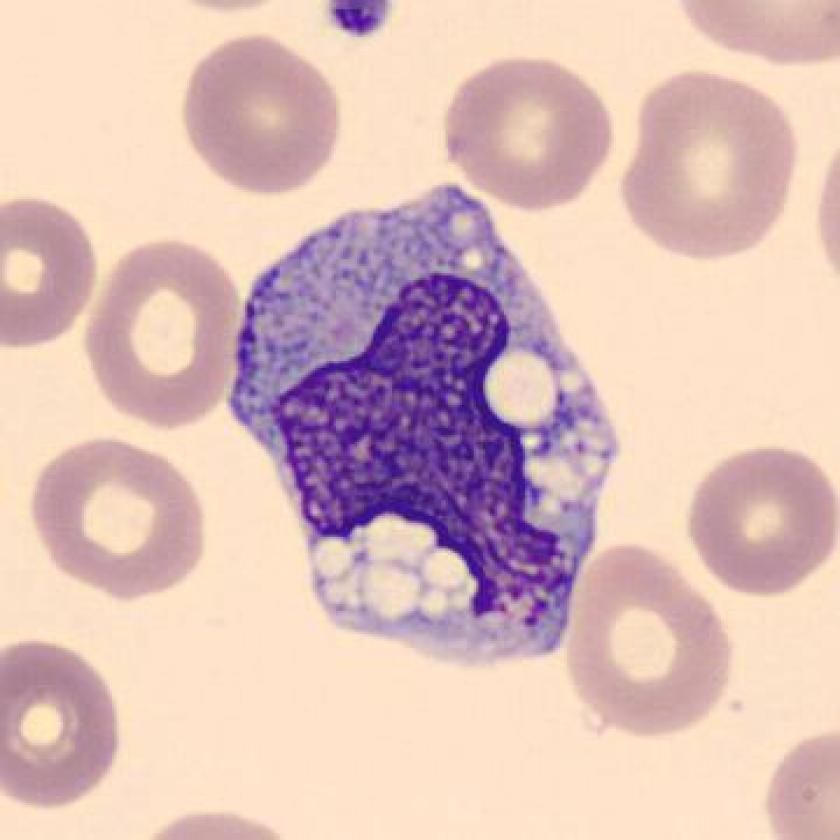monocyte: (211, 165, 645, 686)
